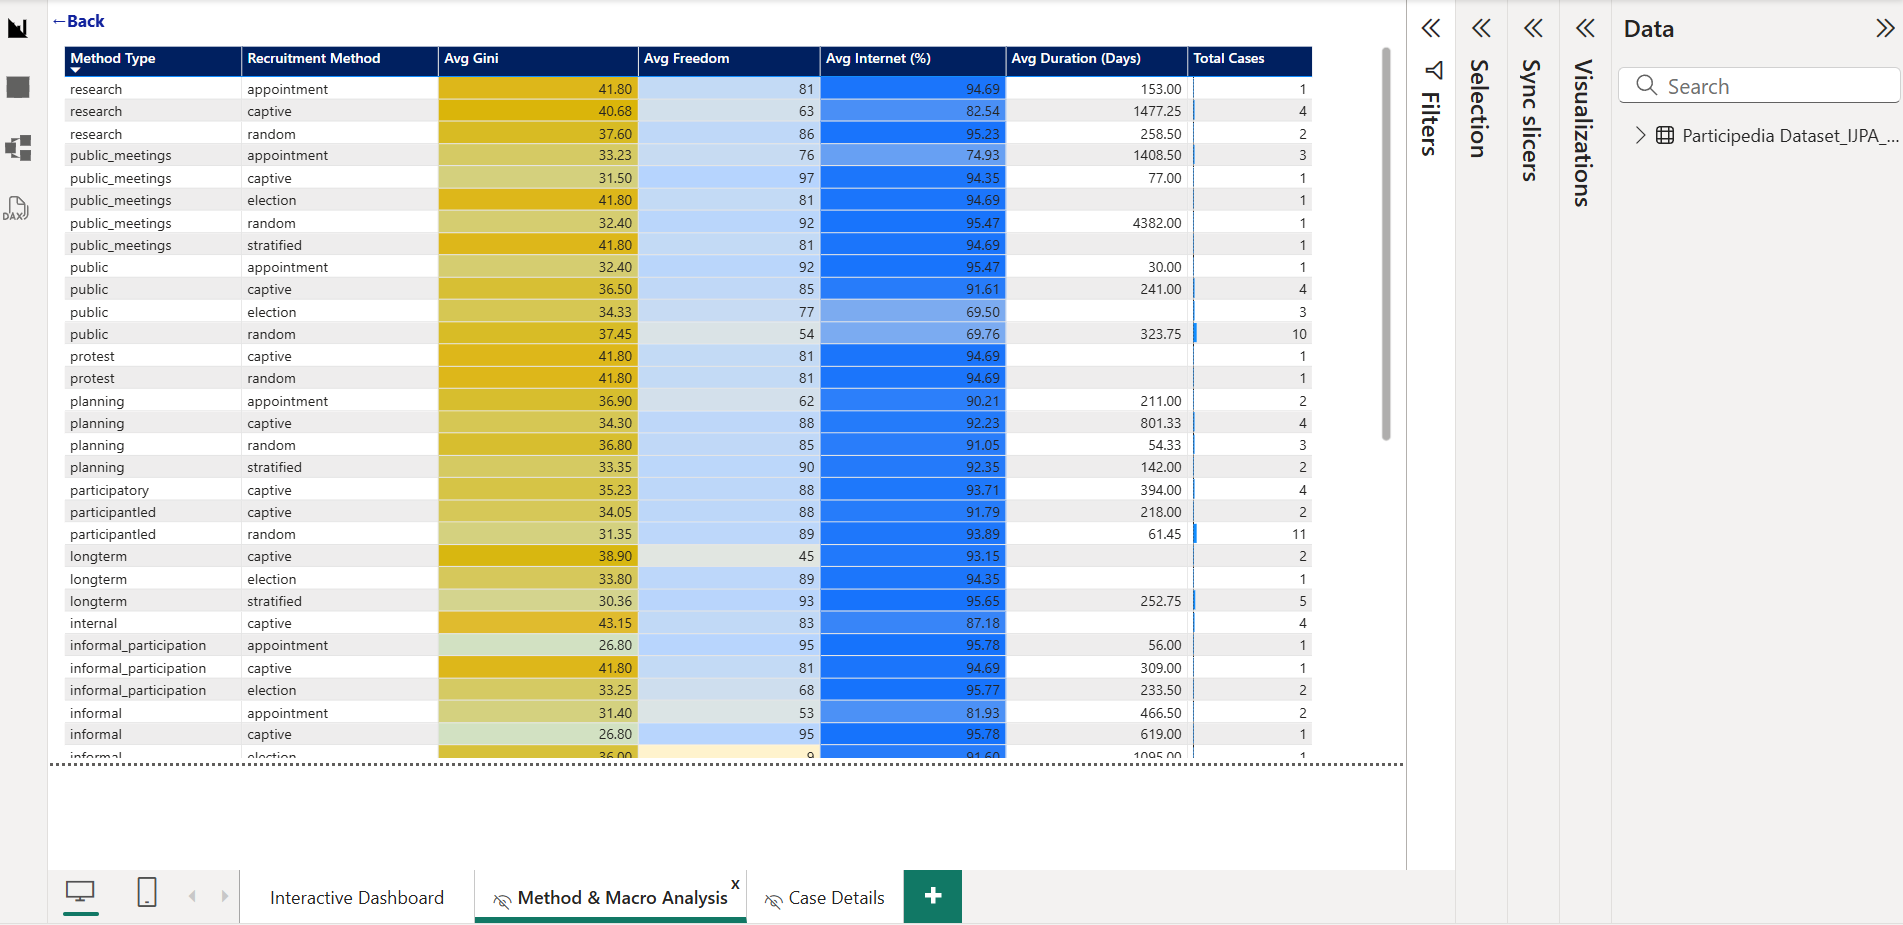

This screenshot's page, from the dashboard's own definition file:
{"tool":"powerbi","page":{"name":"Method & Macro Analysis","canvas":[1280,720],"ordinal":1},"visuals":[{"type":"tableEx","fields":{"Values":["analytics stg_cases.method_types_1","analytics stg_cases.method_types_2","analytics stg_cases.recruitment_method"]},"box":[0,34.8,1278.7,666.4],"z":0},{"type":"actionButton","box":[0,0,141,34.8],"z":3000}]}

Visuals, with their boxes on the page's 1280x720 design canvas (x1, y1, x2, y2). These are canvas units, not pixel positions in the 1903x925 screenshot, which may show the page scaled, cropped or inside an application window:
tableEx - analytics stg_cases.method_types_1 x analytics stg_cases.method_types_2: 0/35/1279/701
actionButton: 0/0/141/35
